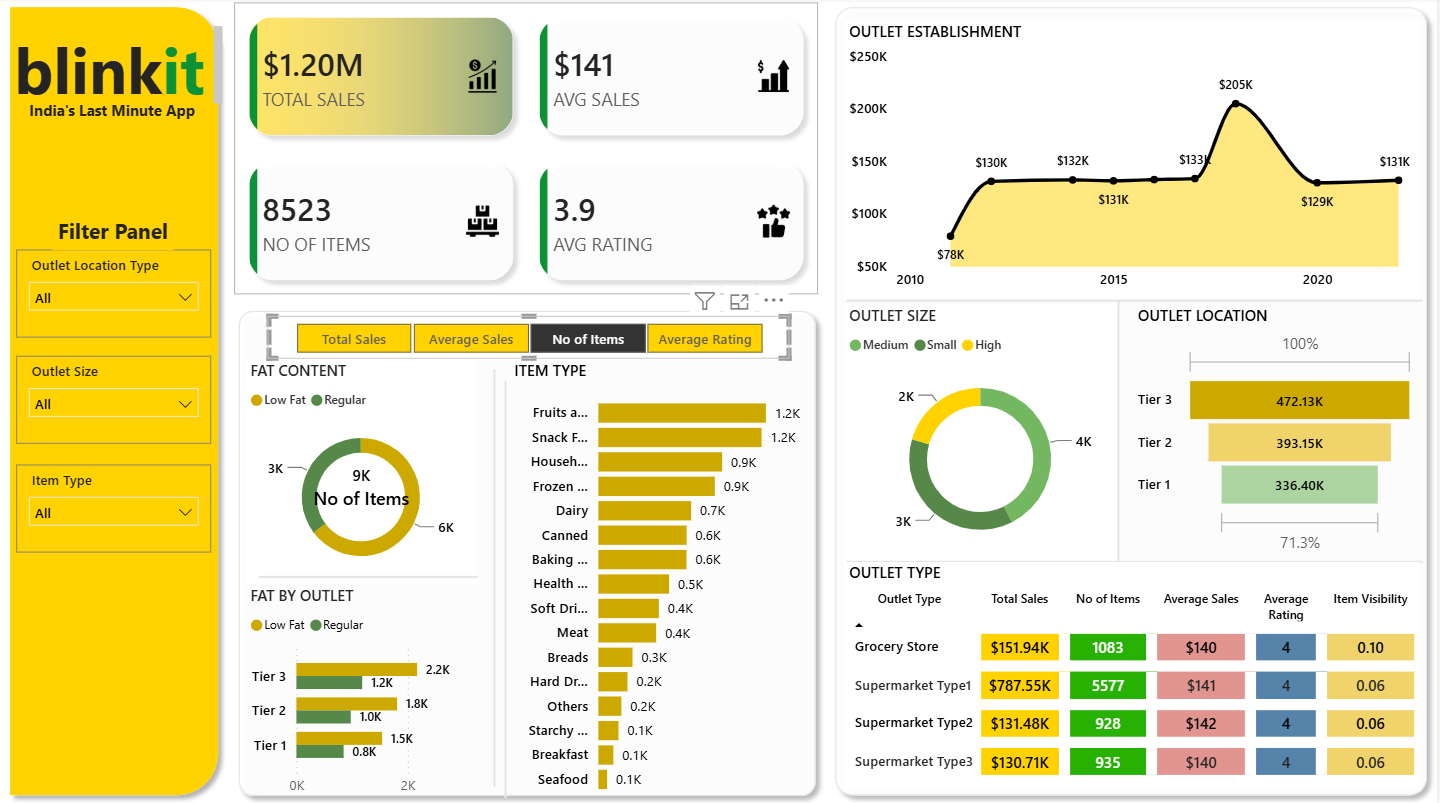

What the dashboard file says about the page in this screenshot:
{"tool":"powerbi","page":{"name":"Page 1","canvas":[1280,720],"ordinal":0},"visuals":[{"type":"shape","box":[0,0,203.3,720],"z":0},{"type":"textbox","box":[8.3,21.7,195,81.7],"z":1000},{"type":"textbox","box":[21.7,86.7,160,31.7],"z":2000},{"type":"cardVisual","fields":{"Data":["BlinkIT Grocery Data.Total Sales","BlinkIT Grocery Data.Average Sales","BlinkIT Grocery Data.No of Items","BlinkIT Grocery Data.Average Rating"]},"box":[203.3,0,531.7,270],"z":3000},{"type":"shape","box":[203.3,270,531.7,450],"z":4000},{"type":"donutChart","title":"FAT CONTENT","fields":{"Y":["BlinkIT Grocery Data.Total Sales"],"Category":["BlinkIT Grocery Data.Item Fat Content"]},"box":[218.3,323.3,206.7,200],"z":5000},{"type":"slicer","fields":{"Values":["Metrics.Metrics"]},"box":[238.3,283.3,465,40],"z":6000},{"type":"cardVisual","fields":{"Data":["BlinkIT Grocery Data.Total Sales"]},"box":[253.3,398.3,136.7,76.7],"z":7000},{"type":"clusteredBarChart","title":"FAT BY OUTLET","fields":{"Y":["BlinkIT Grocery Data.Total Sales"],"Category":["BlinkIT Grocery Data.Outlet Location Type"],"Series":["BlinkIT Grocery Data.Item Fat Content"]},"box":[218.3,523.3,206.7,196.7],"z":8000},{"type":"shape","box":[230,510,195,13.3],"z":9000},{"type":"shape","box":[425,331.7,30,371.7],"z":10000},{"type":"barChart","title":"ITEM TYPE","fields":{"Y":["BlinkIT Grocery Data.Total Sales"],"Category":["BlinkIT Grocery Data.Item Type"]},"box":[453.3,323.3,266.7,396.7],"z":11000},{"type":"shape","box":[735,0,545,720],"z":12000},{"type":"lineChart","title":"OUTLET ESTABLISHMENT","fields":{"Category":["BlinkIT Grocery Data.Outlet Establishment Year"],"Y":["BlinkIT Grocery Data.Total Sales"]},"box":[751.7,21.7,513.3,248.3],"z":13000},{"type":"shape","box":[753.3,263.3,513.3,13.3],"z":14000},{"type":"donutChart","title":"OUTLET SIZE","fields":{"Y":["BlinkIT Grocery Data.Total Sales"],"Category":["BlinkIT Grocery Data.Outlet Size"]},"box":[751.7,273.3,243.3,230],"z":15000},{"type":"funnel","title":"OUTLET LOCATION","fields":{"Y":["Sum(BlinkIT Grocery Data.Sales)"],"Category":["BlinkIT Grocery Data.Outlet Location Type"]},"box":[1008.3,273.3,256.7,228.3],"z":16000},{"type":"shape","box":[435,341.7,30,371.7],"z":17000},{"type":"shape","box":[981.7,270,28.3,231.7],"z":18000},{"type":"shape","box":[753.3,496.7,513.3,13.3],"z":19000},{"type":"pivotTable","title":"OUTLET TYPE","fields":{"Rows":["BlinkIT Grocery Data.Outlet Type"],"Values":["BlinkIT Grocery Data.Total Sales","BlinkIT Grocery Data.No of Items","BlinkIT Grocery Data.Average Sales","BlinkIT Grocery Data.Average Rating","Avg(BlinkIT Grocery Data.Item Visibility)"]},"box":[751.7,503.3,513.3,203.3],"z":20000},{"type":"slicer","fields":{"Values":["BlinkIT Grocery Data.Outlet Location Type"]},"box":[15,225,173.3,78.3],"z":21000},{"type":"slicer","fields":{"Values":["BlinkIT Grocery Data.Outlet Size"]},"box":[15,320,173.3,78.3],"z":22000},{"type":"slicer","fields":{"Values":["BlinkIT Grocery Data.Item Type"]},"box":[15,416.7,173.3,78.3],"z":23000},{"type":"textbox","box":[46.7,190,108.3,35],"z":24000}]}

Visuals, with their boxes in screenshot pixels (x1, y1, x2, y2), scaled from the page's 1280x720 canvas onto the 1440x803 screenshot:
shape: left=0, top=0, right=229, bottom=802
textbox: left=9, top=24, right=229, bottom=115
textbox: left=24, top=97, right=204, bottom=132
cardVisual - BlinkIT Grocery Data.Total Sales x BlinkIT Grocery Data.Average Sales: left=229, top=0, right=827, bottom=301
shape: left=229, top=301, right=827, bottom=802
"FAT CONTENT" donutChart: left=246, top=361, right=478, bottom=584
slicer - Metrics.Metrics: left=268, top=316, right=791, bottom=361
cardVisual - BlinkIT Grocery Data.Total Sales: left=285, top=444, right=439, bottom=530
"FAT BY OUTLET" clusteredBarChart: left=246, top=584, right=478, bottom=802
shape: left=259, top=569, right=478, bottom=584
shape: left=478, top=370, right=512, bottom=784
"ITEM TYPE" barChart: left=510, top=361, right=810, bottom=802
shape: left=827, top=0, right=1439, bottom=802
"OUTLET ESTABLISHMENT" lineChart: left=846, top=24, right=1423, bottom=301
shape: left=847, top=294, right=1425, bottom=308
"OUTLET SIZE" donutChart: left=846, top=305, right=1119, bottom=561
"OUTLET LOCATION" funnel: left=1134, top=305, right=1423, bottom=559
shape: left=489, top=381, right=523, bottom=796
shape: left=1104, top=301, right=1136, bottom=560
shape: left=847, top=554, right=1425, bottom=569
"OUTLET TYPE" pivotTable: left=846, top=561, right=1423, bottom=788
slicer - BlinkIT Grocery Data.Outlet Location Type: left=17, top=251, right=212, bottom=338
slicer - BlinkIT Grocery Data.Outlet Size: left=17, top=357, right=212, bottom=444
slicer - BlinkIT Grocery Data.Item Type: left=17, top=465, right=212, bottom=552
textbox: left=53, top=212, right=174, bottom=251
